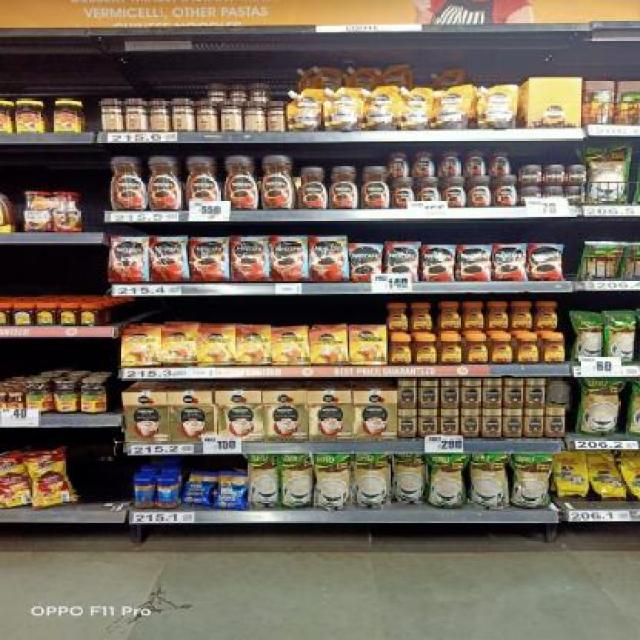Coffee: (108, 155, 148, 211), (183, 153, 222, 210), (222, 153, 260, 210), (148, 155, 185, 211), (260, 154, 297, 209), (108, 236, 149, 281), (191, 237, 229, 281), (309, 236, 346, 281), (271, 236, 307, 281), (150, 237, 187, 280), (232, 237, 268, 280), (309, 328, 348, 364), (384, 244, 418, 284), (360, 166, 391, 209), (329, 166, 360, 209), (197, 328, 234, 364), (121, 330, 159, 365), (272, 328, 308, 364), (350, 328, 386, 363), (160, 327, 196, 362), (347, 243, 381, 280), (298, 167, 328, 208), (456, 245, 490, 281), (236, 328, 270, 363), (420, 246, 454, 280), (529, 245, 562, 280), (492, 246, 525, 280), (516, 334, 540, 364), (540, 334, 564, 364), (487, 148, 513, 175), (386, 302, 409, 332), (496, 176, 518, 207), (470, 176, 492, 207), (464, 336, 488, 364), (534, 301, 557, 330), (437, 302, 460, 331), (486, 302, 509, 331), (410, 303, 433, 332), (393, 178, 415, 208), (490, 334, 512, 364), (413, 336, 436, 364), (510, 301, 532, 330), (462, 302, 484, 331), (445, 178, 466, 208), (439, 336, 461, 364), (389, 336, 411, 364), (481, 408, 501, 438), (413, 149, 435, 176), (483, 378, 502, 408), (419, 408, 438, 438), (503, 408, 522, 438), (418, 380, 438, 408), (398, 379, 417, 408), (466, 149, 486, 176), (441, 378, 459, 408), (505, 378, 523, 408), (461, 408, 479, 438), (398, 410, 417, 438), (418, 178, 442, 200), (441, 149, 462, 174), (389, 151, 409, 177), (526, 408, 543, 438), (462, 379, 480, 407), (519, 166, 544, 186), (547, 409, 565, 436), (527, 379, 544, 407), (440, 408, 458, 434), (545, 164, 566, 185), (568, 164, 587, 185), (520, 186, 540, 205), (542, 188, 564, 204), (568, 187, 588, 204)
